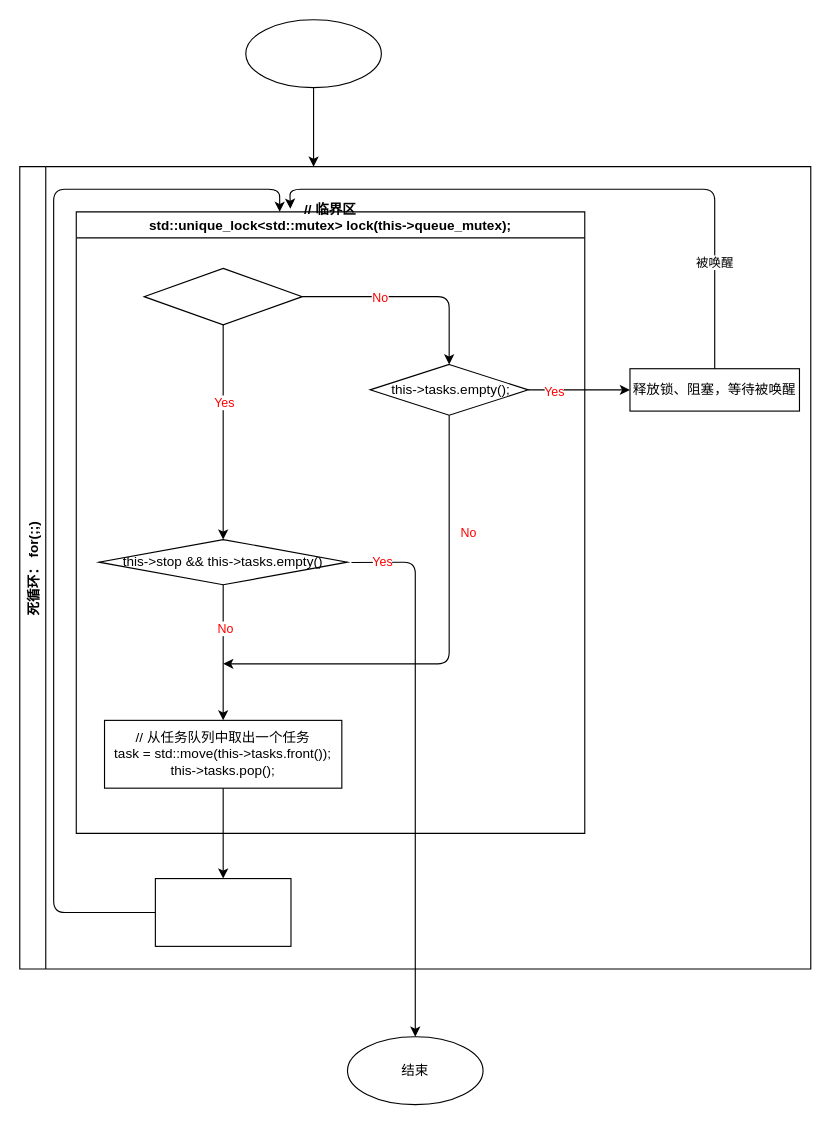
Image size: 831x1124. Some labels were removed from this diagram. Each missing label, with the centre of its shape:
// 执行任务 task();: point 222,911
this->stop == true ?: point 222,296
开始: point 313,53
